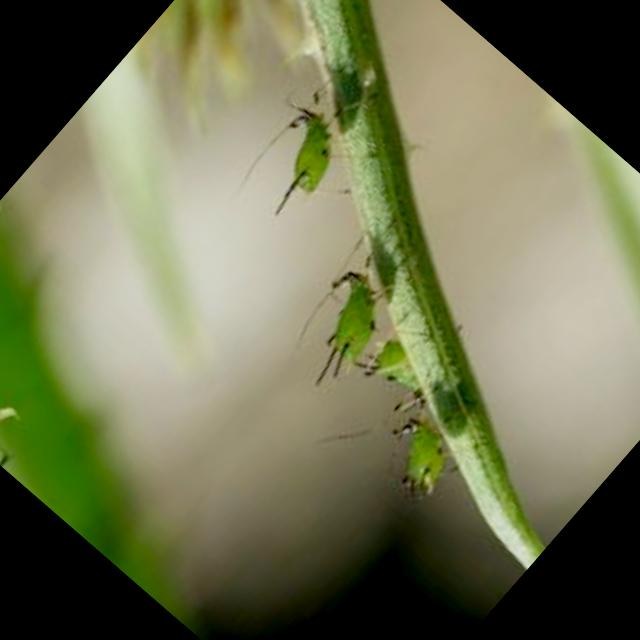Green peach aphid: (216, 46, 420, 250), (266, 202, 448, 392), (336, 375, 494, 534), (334, 312, 454, 434)
